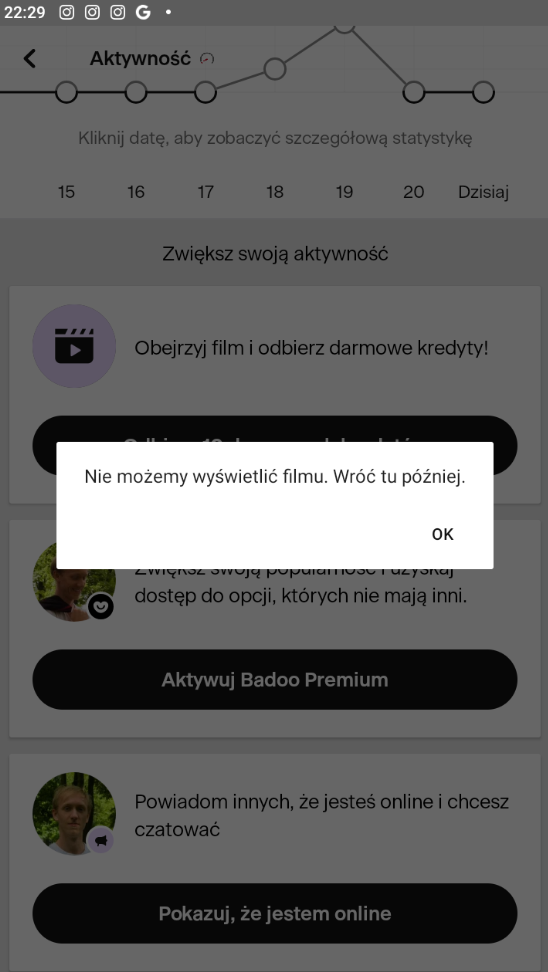ok_button: (424, 514, 461, 550)
